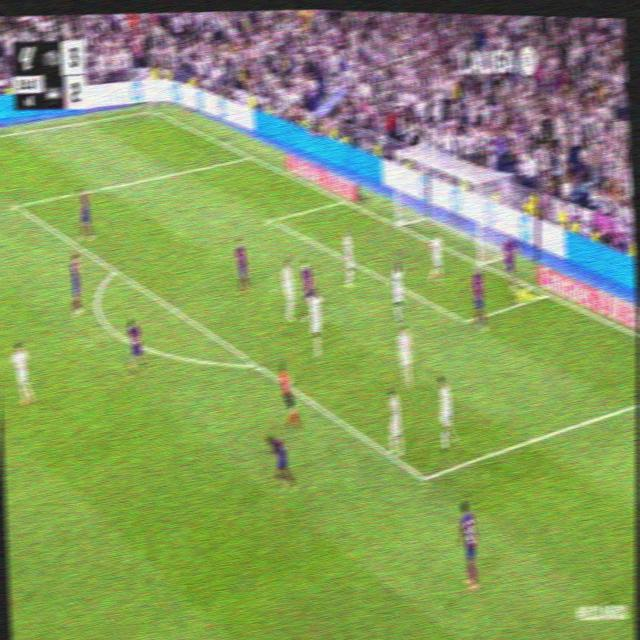bigarea_bottom_inner: (416, 462, 432, 493)
bigarea_top_inner: (10, 194, 24, 215)
bigarea_top_outter: (243, 146, 255, 165)
bottom_arc_area_intersection: (247, 349, 262, 376)
corner: (146, 104, 159, 117)
smallarea_bottom_inner: (460, 309, 472, 331)
smallarea_top_inner: (265, 210, 278, 229)
top_arc_area_intersection: (108, 259, 122, 279)
